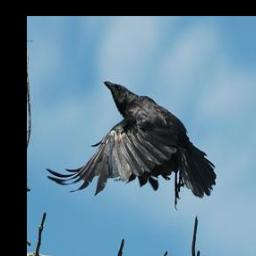Crow: (42, 78, 214, 211)
